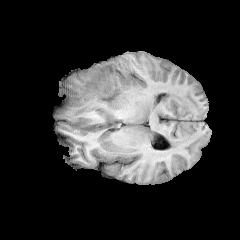glioma: (66, 64, 124, 116)
